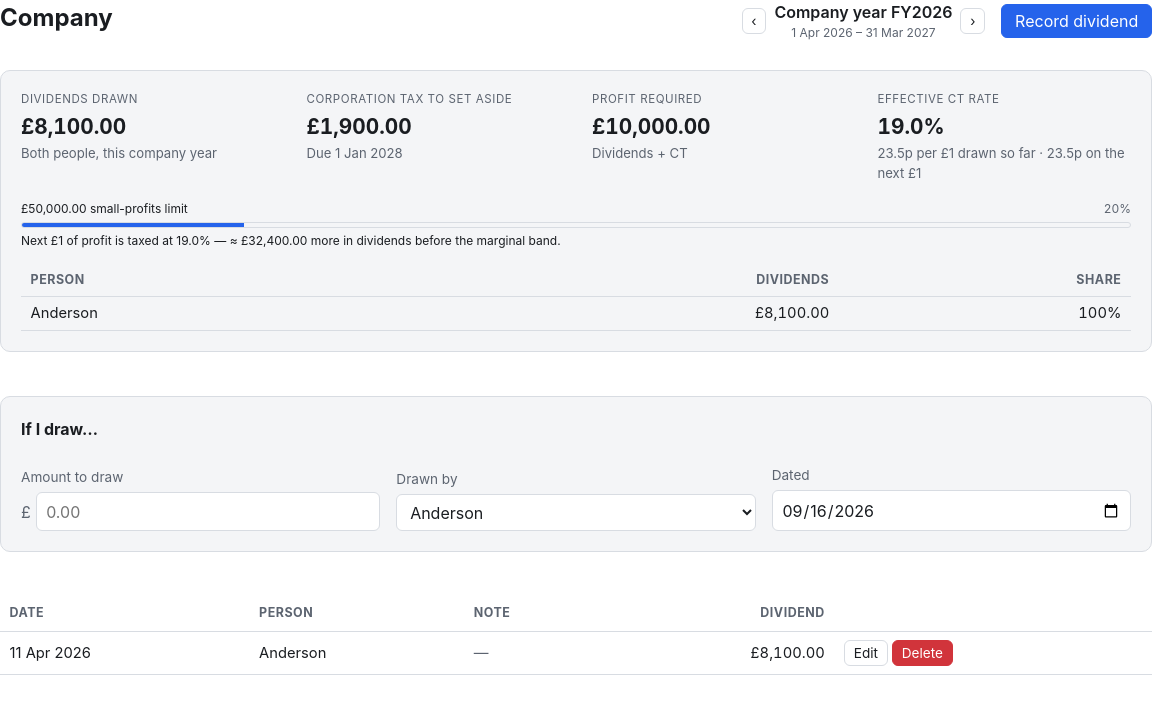
Test: Company tab draw calculator › shows the company picture before and after a draw
Type "1000" into the field labelled "Amount to draw". click: (208, 512)
box: [36, 492, 380, 531]
(page scrolled)
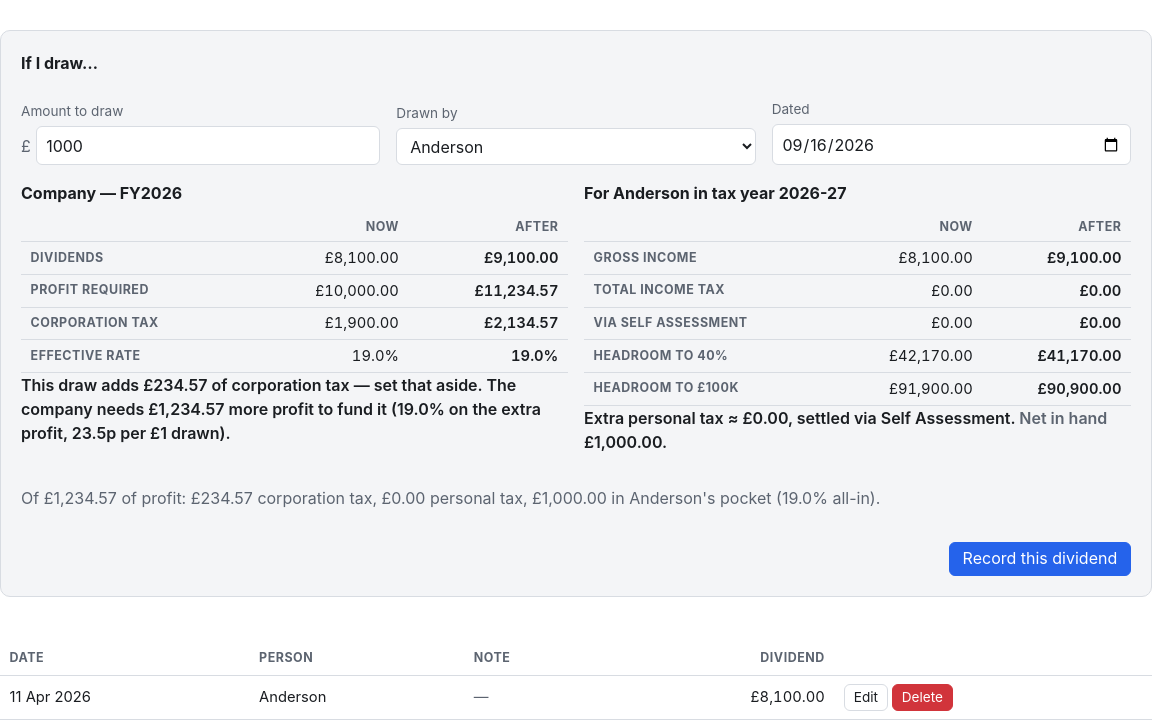
Now the text "£11,234.57" is shown, box [475, 282, 558, 300]
Now the text "£2,134.57" is shown, box [484, 314, 558, 332]
Now the heading "For Anderson in tax year 2026-27" is shown, box [584, 183, 846, 203]
